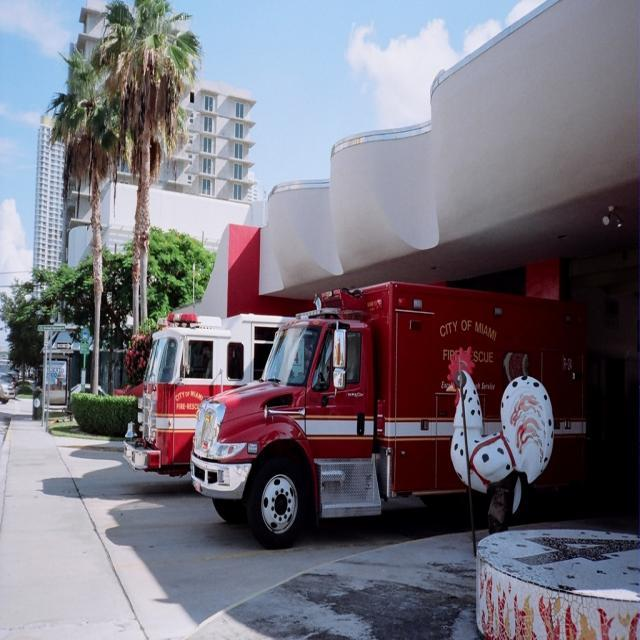bicycle: (191, 288, 550, 550), (123, 309, 319, 483)
